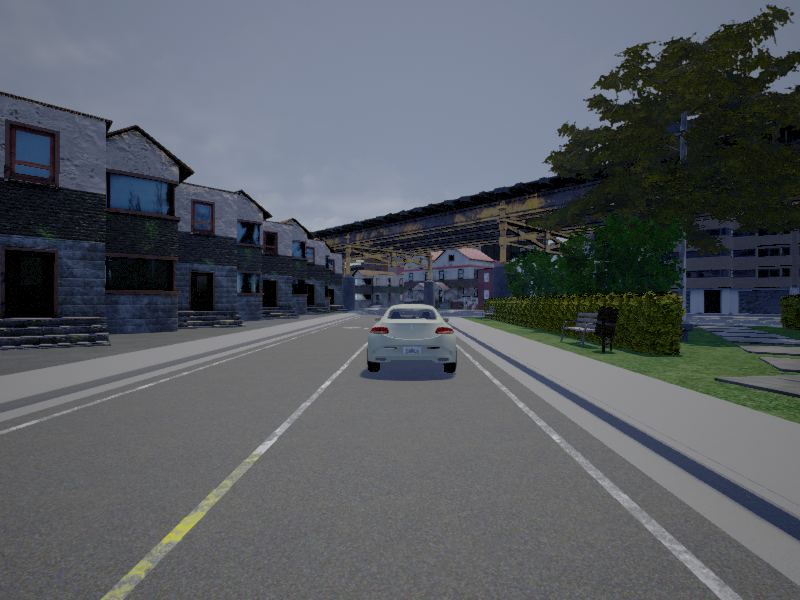Benign: (370, 304, 457, 378)
